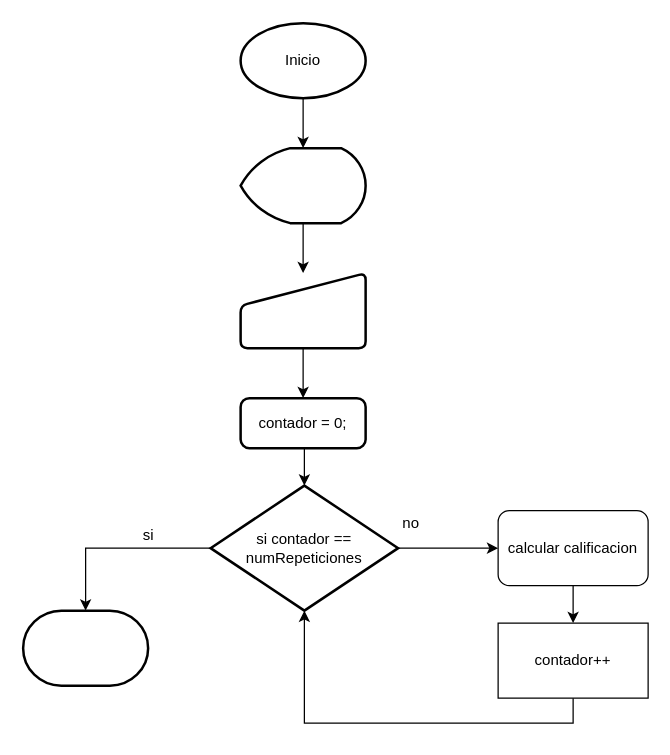
Image size: 670x755. Some labels were removed from this diagram. Each missing label, with the centre of its shape:
Fin: the point at 85,647
Introduce el numero de calificaciones: the point at 302,185
leer numRepeticiones: the point at 302,310
